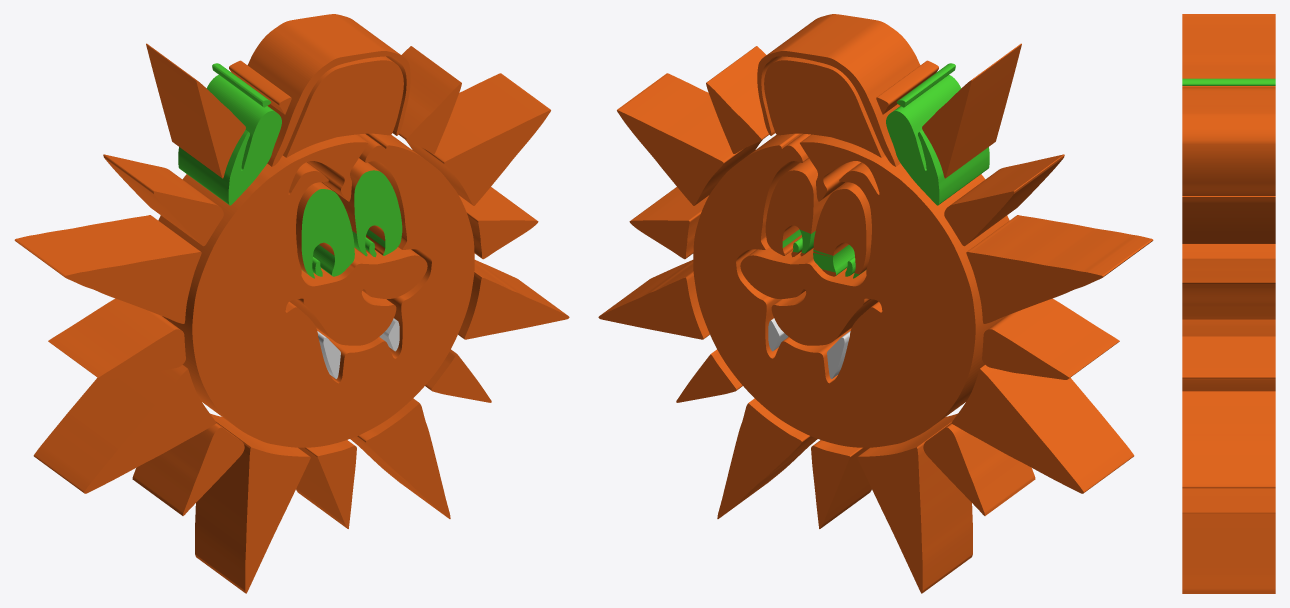
Rendered from SUN.gltf.
3 renders of one model, left to right at view 1: azimuth 30°, elevation 25°; view 2: azimuth 150°, elevation 25°; view 3: azimuth 270°, elevation 25°, orthographic. The views are drawn at different scales.
Parts seen in each view (by area): view 1: Curve.007; view 2: Curve.007; view 3: Curve.007.
Boxes of the visible parts, x1,y1,x2,y2 form: Curve.007: (14,14,569,593); Curve.007: (598,14,1153,593); Curve.007: (1182,14,1275,593).
Size of the model in its own units: 0.0186 by 0.0185 by 0.00321.
